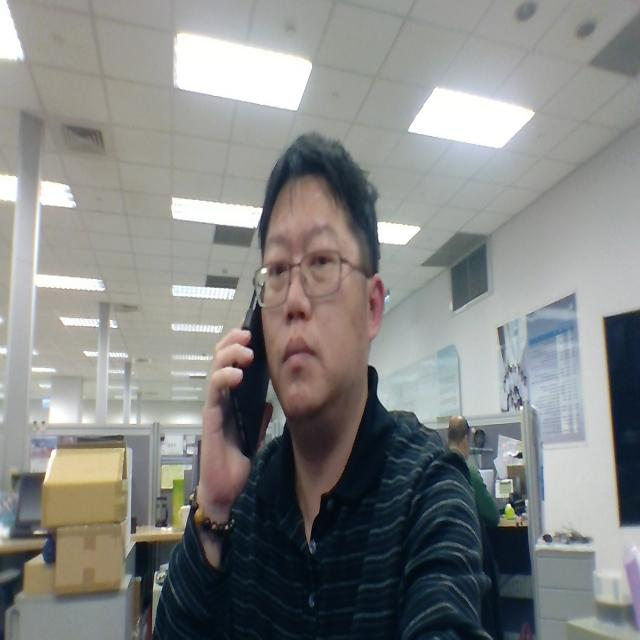phone: (198, 248, 277, 507)
